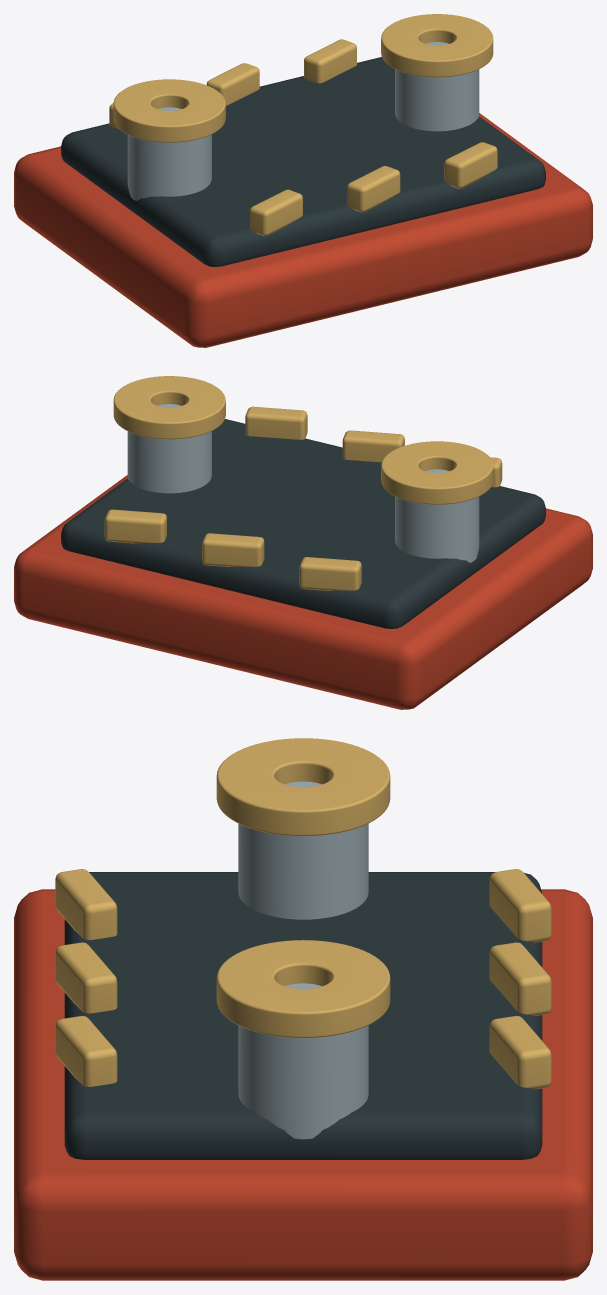
Rendered from SM_VPress.fbx.
The picture shows the model from 3 angles, top to bottom: view 1: azimuth 30°, elevation 25°; view 2: azimuth 150°, elevation 25°; view 3: azimuth 270°, elevation 25°; orthographic projection. The views are drawn at different scales.
Parts seen in each view (by area): view 1: SM_VPress; view 2: SM_VPress; view 3: SM_VPress.
Boxes of the visible parts, bbox=[...] form: SM_VPress: bbox=[14, 14, 592, 347]; SM_VPress: bbox=[14, 376, 592, 709]; SM_VPress: bbox=[14, 738, 592, 1280].
Bounding box in the file's own units: 100 × 80 × 40.
